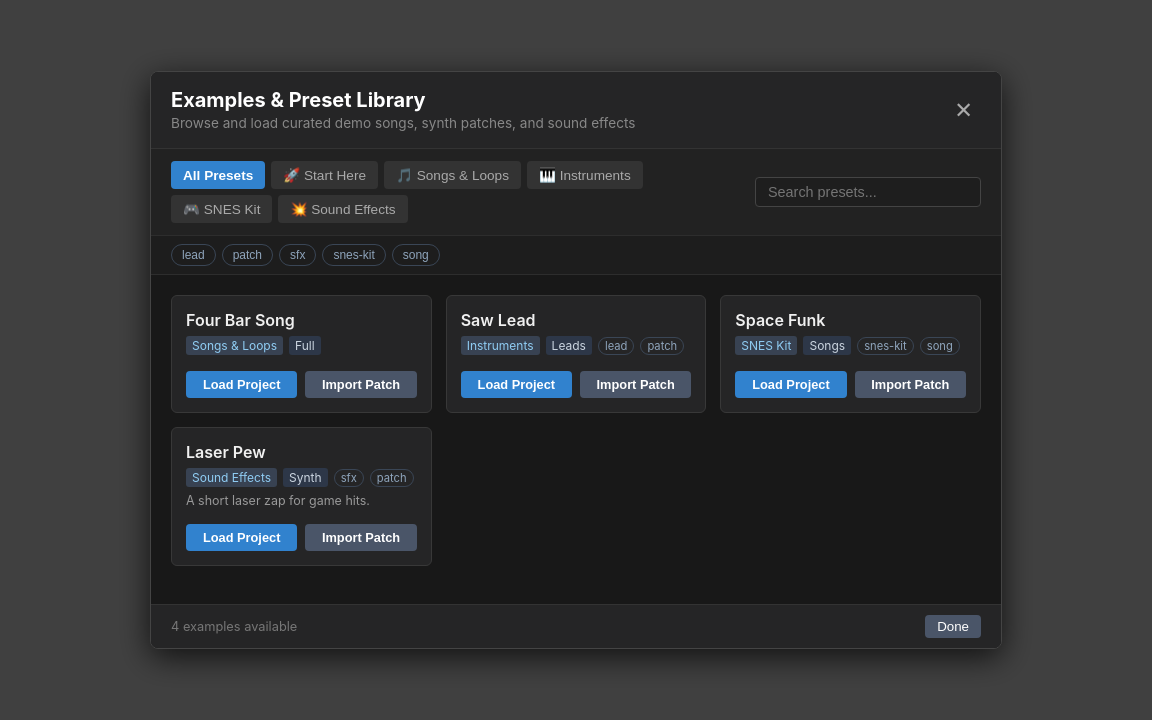
Test: ExamplesModal › filters by tag chip, and clicking it again clears the filter
The image size is (1152, 720).
Expected: the text "Four Bar Song" is shown, [186,310,295,330]
Click the button with test id "tag-chip-sfx".
click(298, 255)  # box [279,244,316,266]
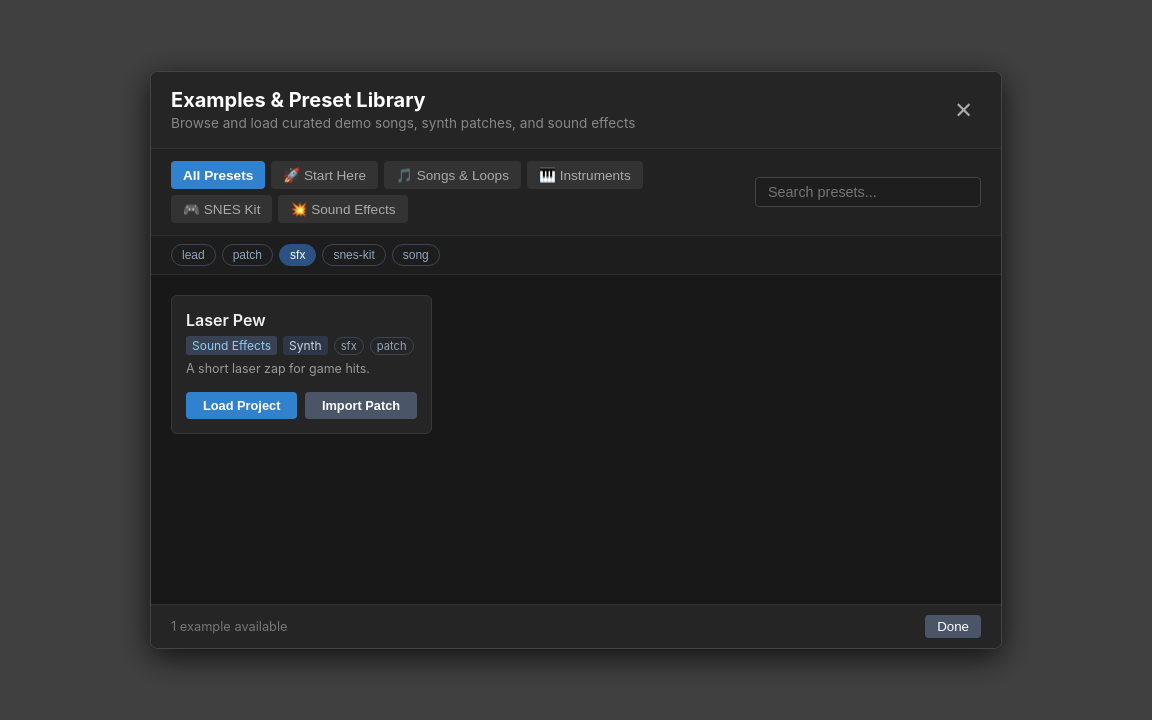
Expected: the text "Laser Pew" is shown, [186,310,266,330]
Expected: the text "Saw Lead" is gone
Expected: the text "Four Bar Song" is gone
Click the button with test id "tag-chip-sfx".
click(298, 255)  # box [279,244,316,266]
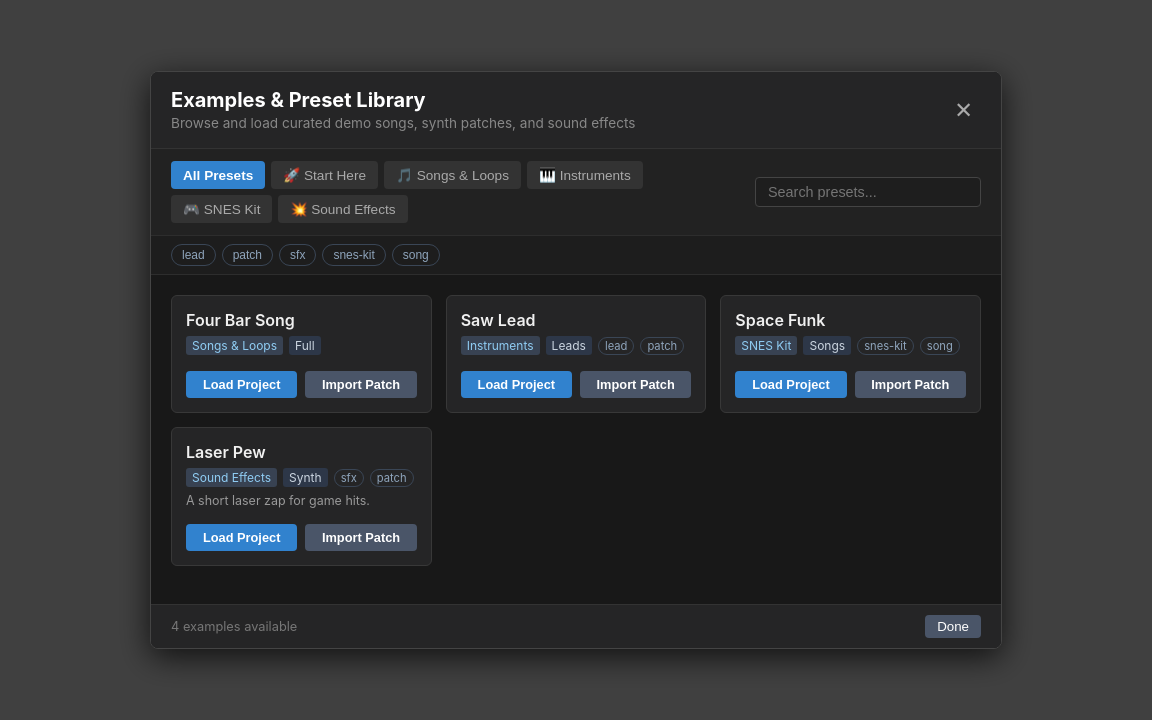
Expected: the text "Four Bar Song" is shown, [186,310,295,330]
Expected: the text "Saw Lead" is shown, [461,310,536,330]
